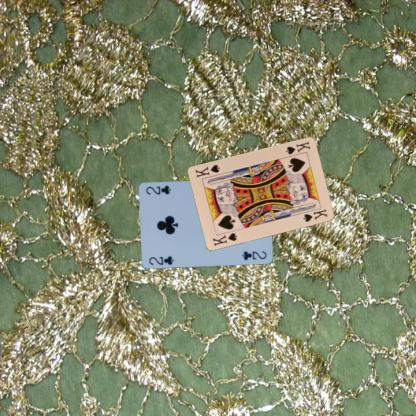2c: (146, 254, 176, 265)
Ks: (210, 230, 239, 247), (284, 139, 311, 156)
